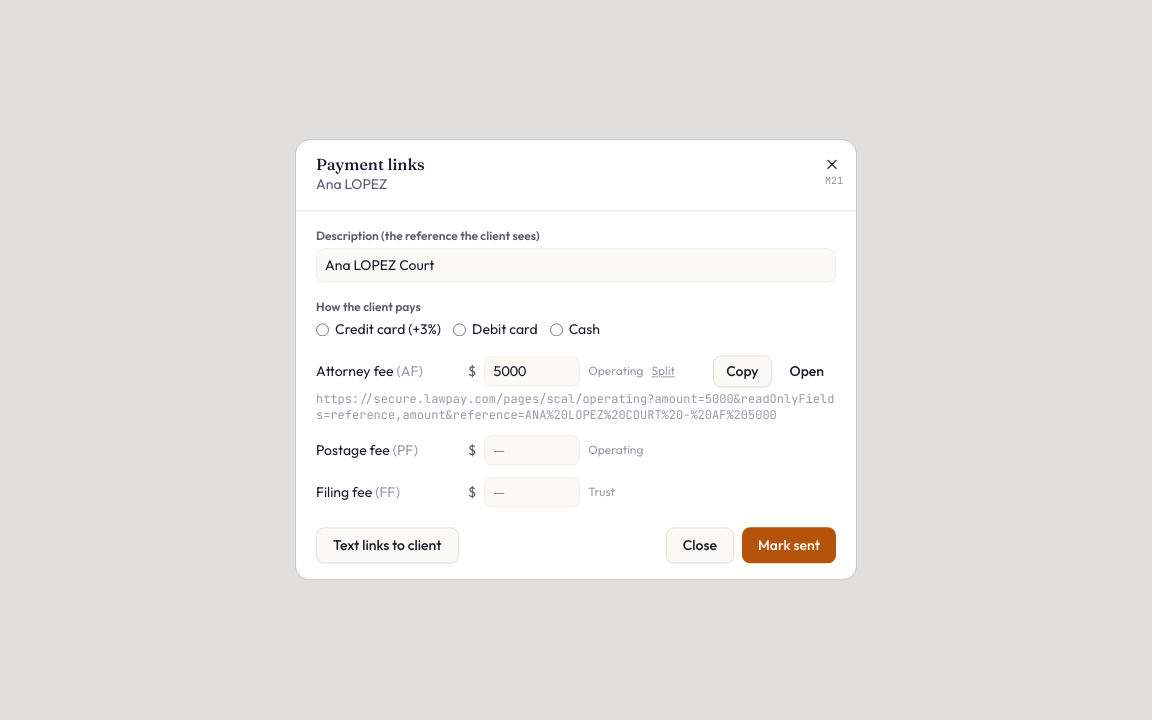
Test case: PaymentLinksModal → Text links to client › a test-mode text marks nothing
Click the button "Text links to client".
click(387, 546)  # box [316,528,458,564]
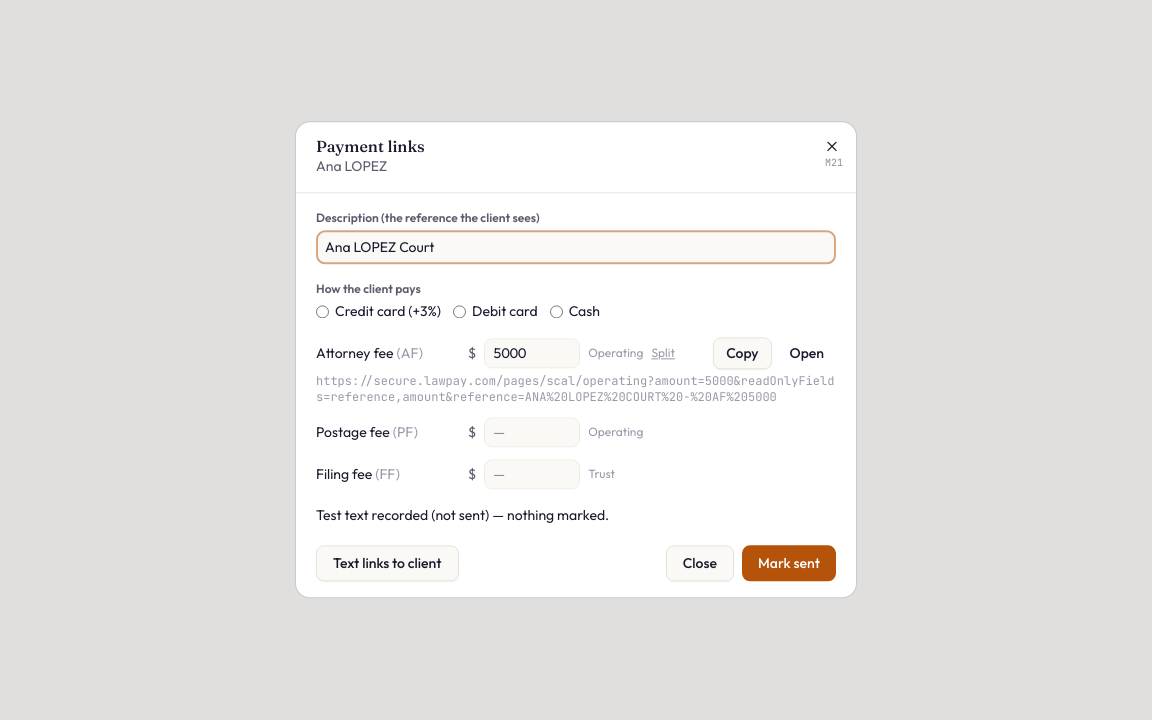
Expected: the text "nothing marked" is shown, [316,507,609,525]
